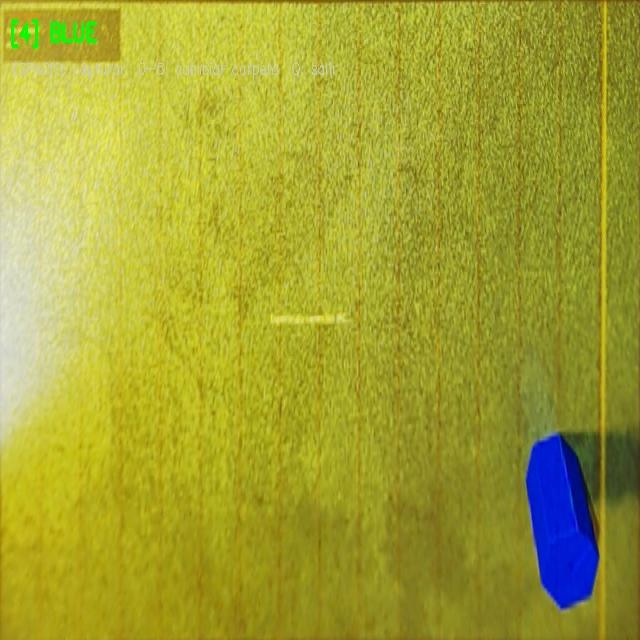blue: (524, 429, 599, 609)
